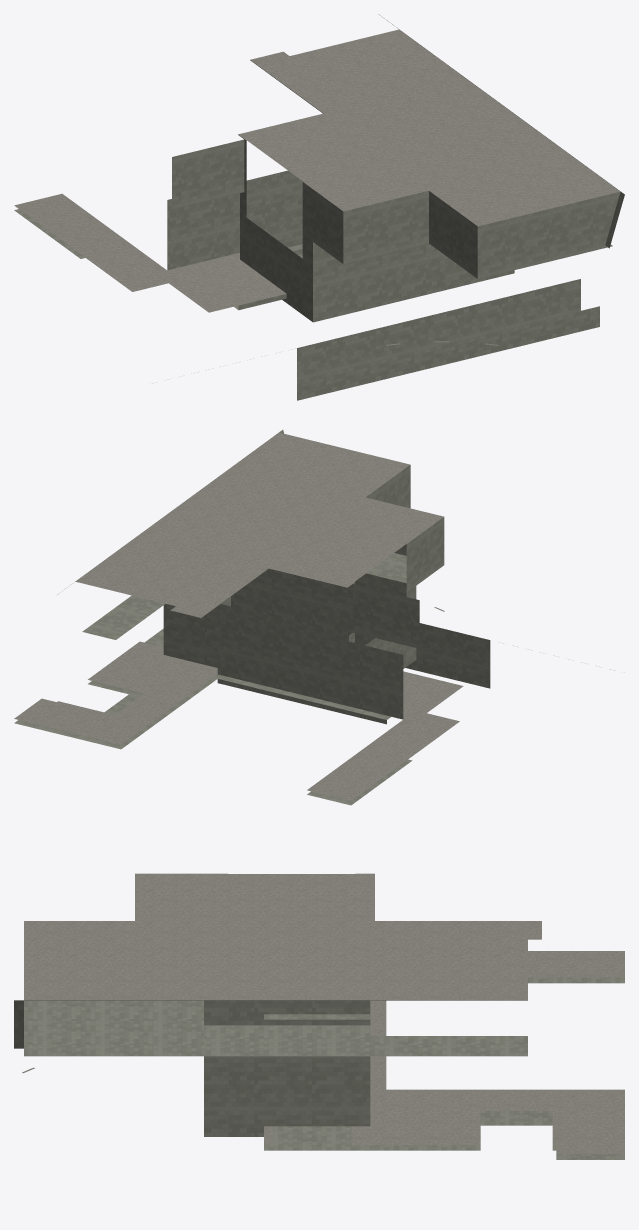
Rendered from SM_QD_Ground_ChurchSquare.fbx.
3 renders of one model, top to bottom at view 1: azimuth 30°, elevation 25°; view 2: azimuth 150°, elevation 25°; view 3: azimuth 270°, elevation 25°, orthographic. The views are drawn at different scales.
Parts seen in each view (by area): view 1: SM_QD_Ground_ChurchSquare; view 2: SM_QD_Ground_ChurchSquare; view 3: SM_QD_Ground_ChurchSquare.
Part boxes in pixels (<box>): SM_QD_Ground_ChurchSquare: <box>14,14,624,400</box>; SM_QD_Ground_ChurchSquare: <box>14,430,490,805</box>; SM_QD_Ground_ChurchSquare: <box>14,873,624,1159</box>.
Bounding box in the file's own units: 49.09 × 50.76 × 18.41.
2 materials, 2 textured.
